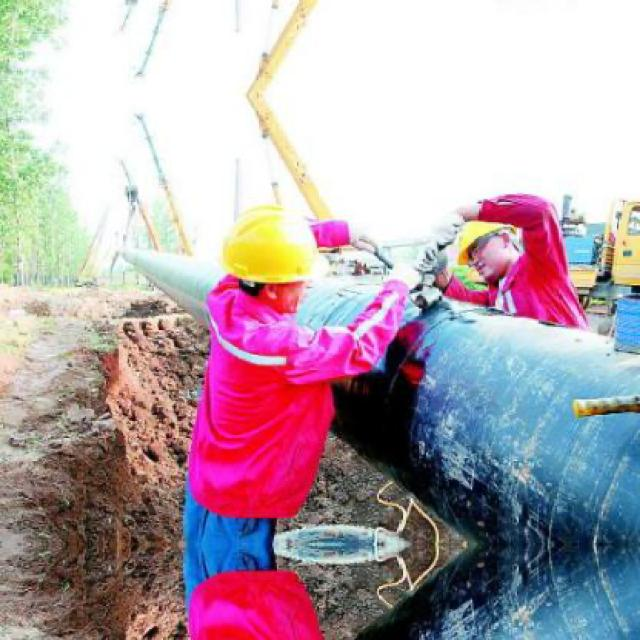con casco: (216, 207, 360, 304), (410, 189, 557, 260)
